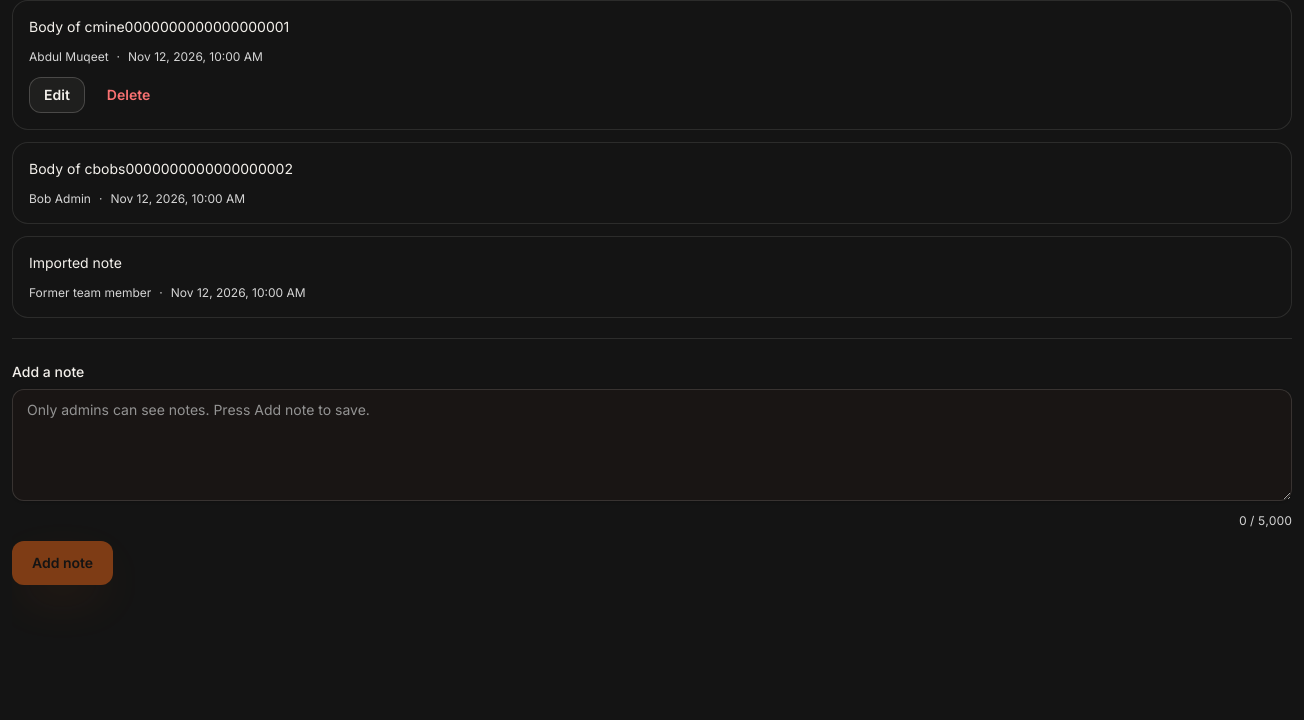
Test: LeadNotesPanel: editing a note › opens an editor with the current text, and Save is off until something changes
Click the button with aria-label "Edit note 1". click: (57, 95)
box: [29,77,85,113]
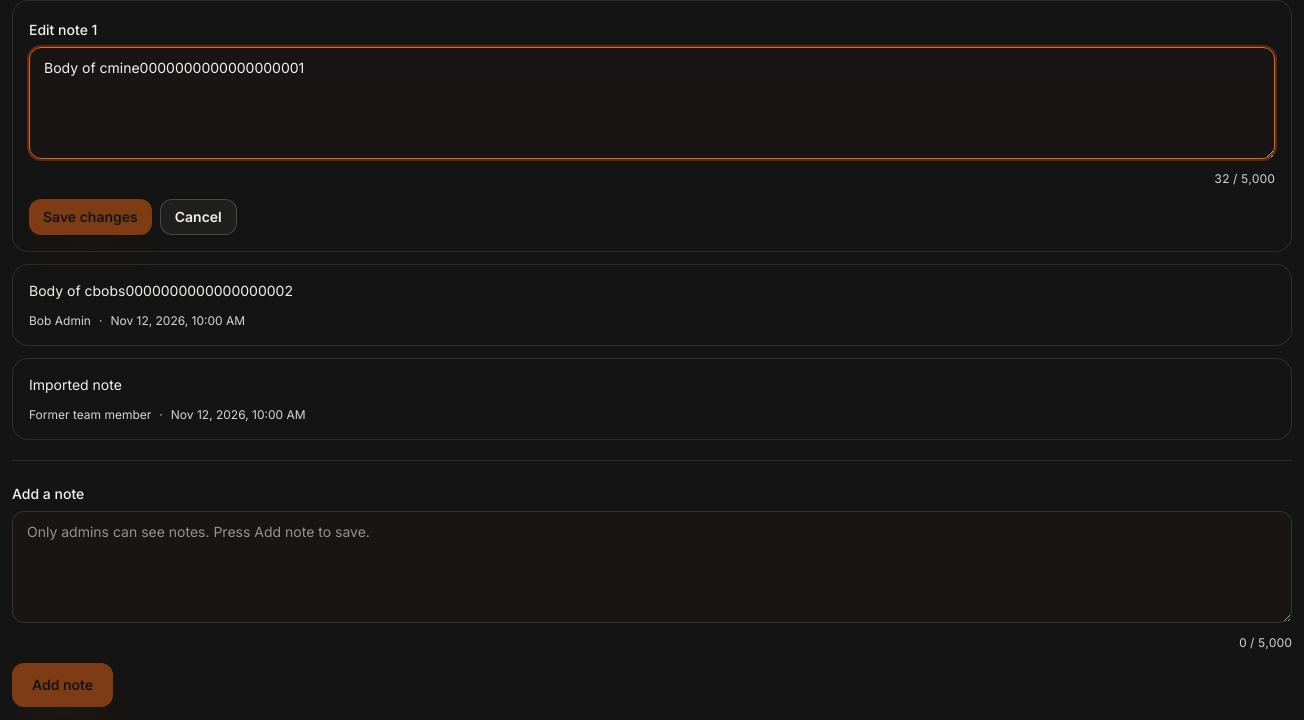
Result: the text box labelled "Edit note 1" holds "Body of cmine0000000000000000001"
Result: the button "Save changes" is disabled at [29,199,152,235]
Type "!" into the text box labelled "Edit note 1". click: (652, 103)
box: [29,47,1275,159]
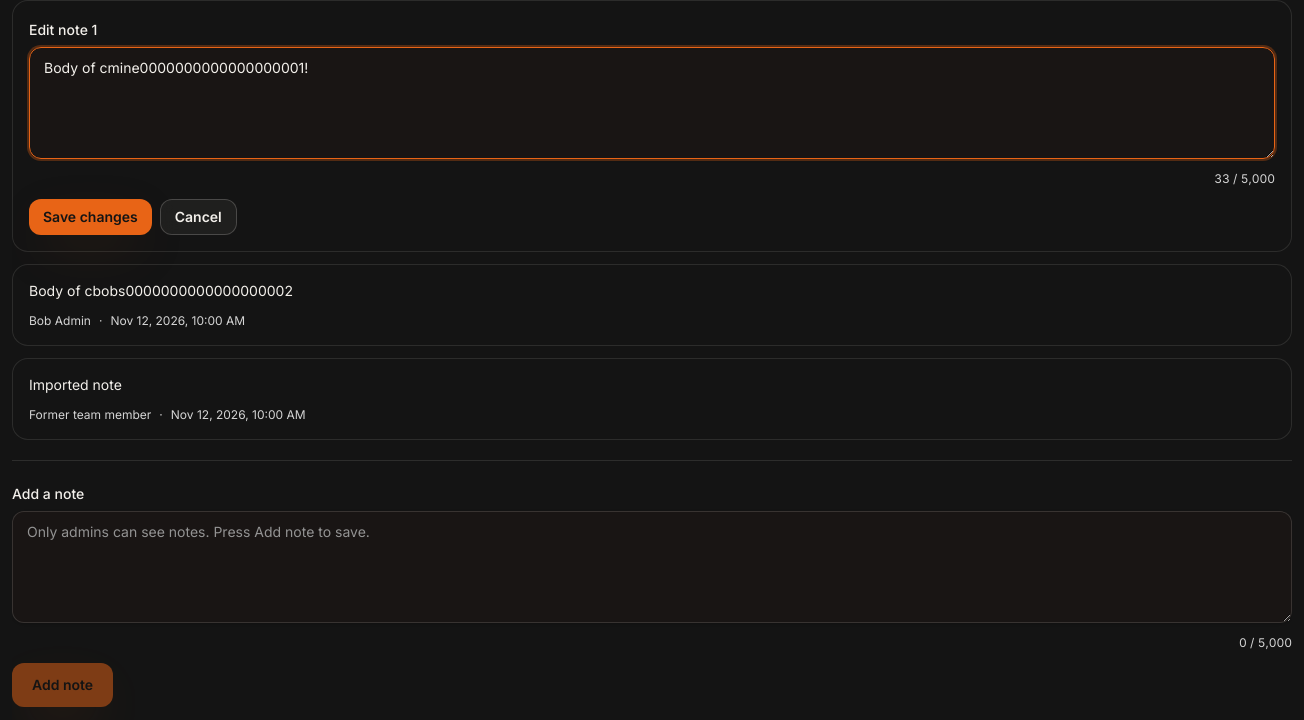
Result: the button "Save changes" is enabled at [29,199,152,235]
